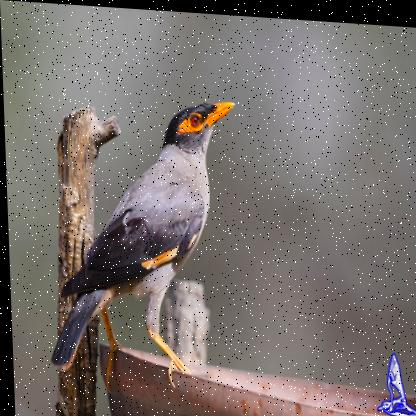Burung: (40, 83, 244, 391)
